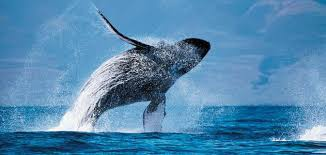humpback: (77, 37, 211, 106)
